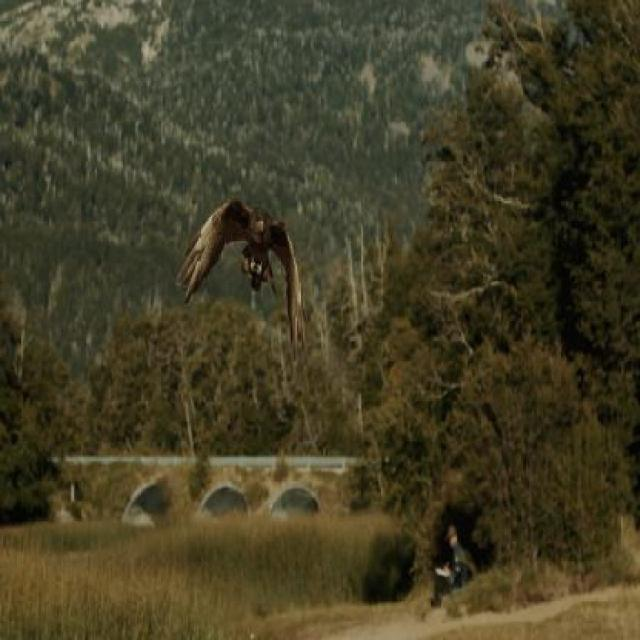bird: (173, 185, 307, 329)
